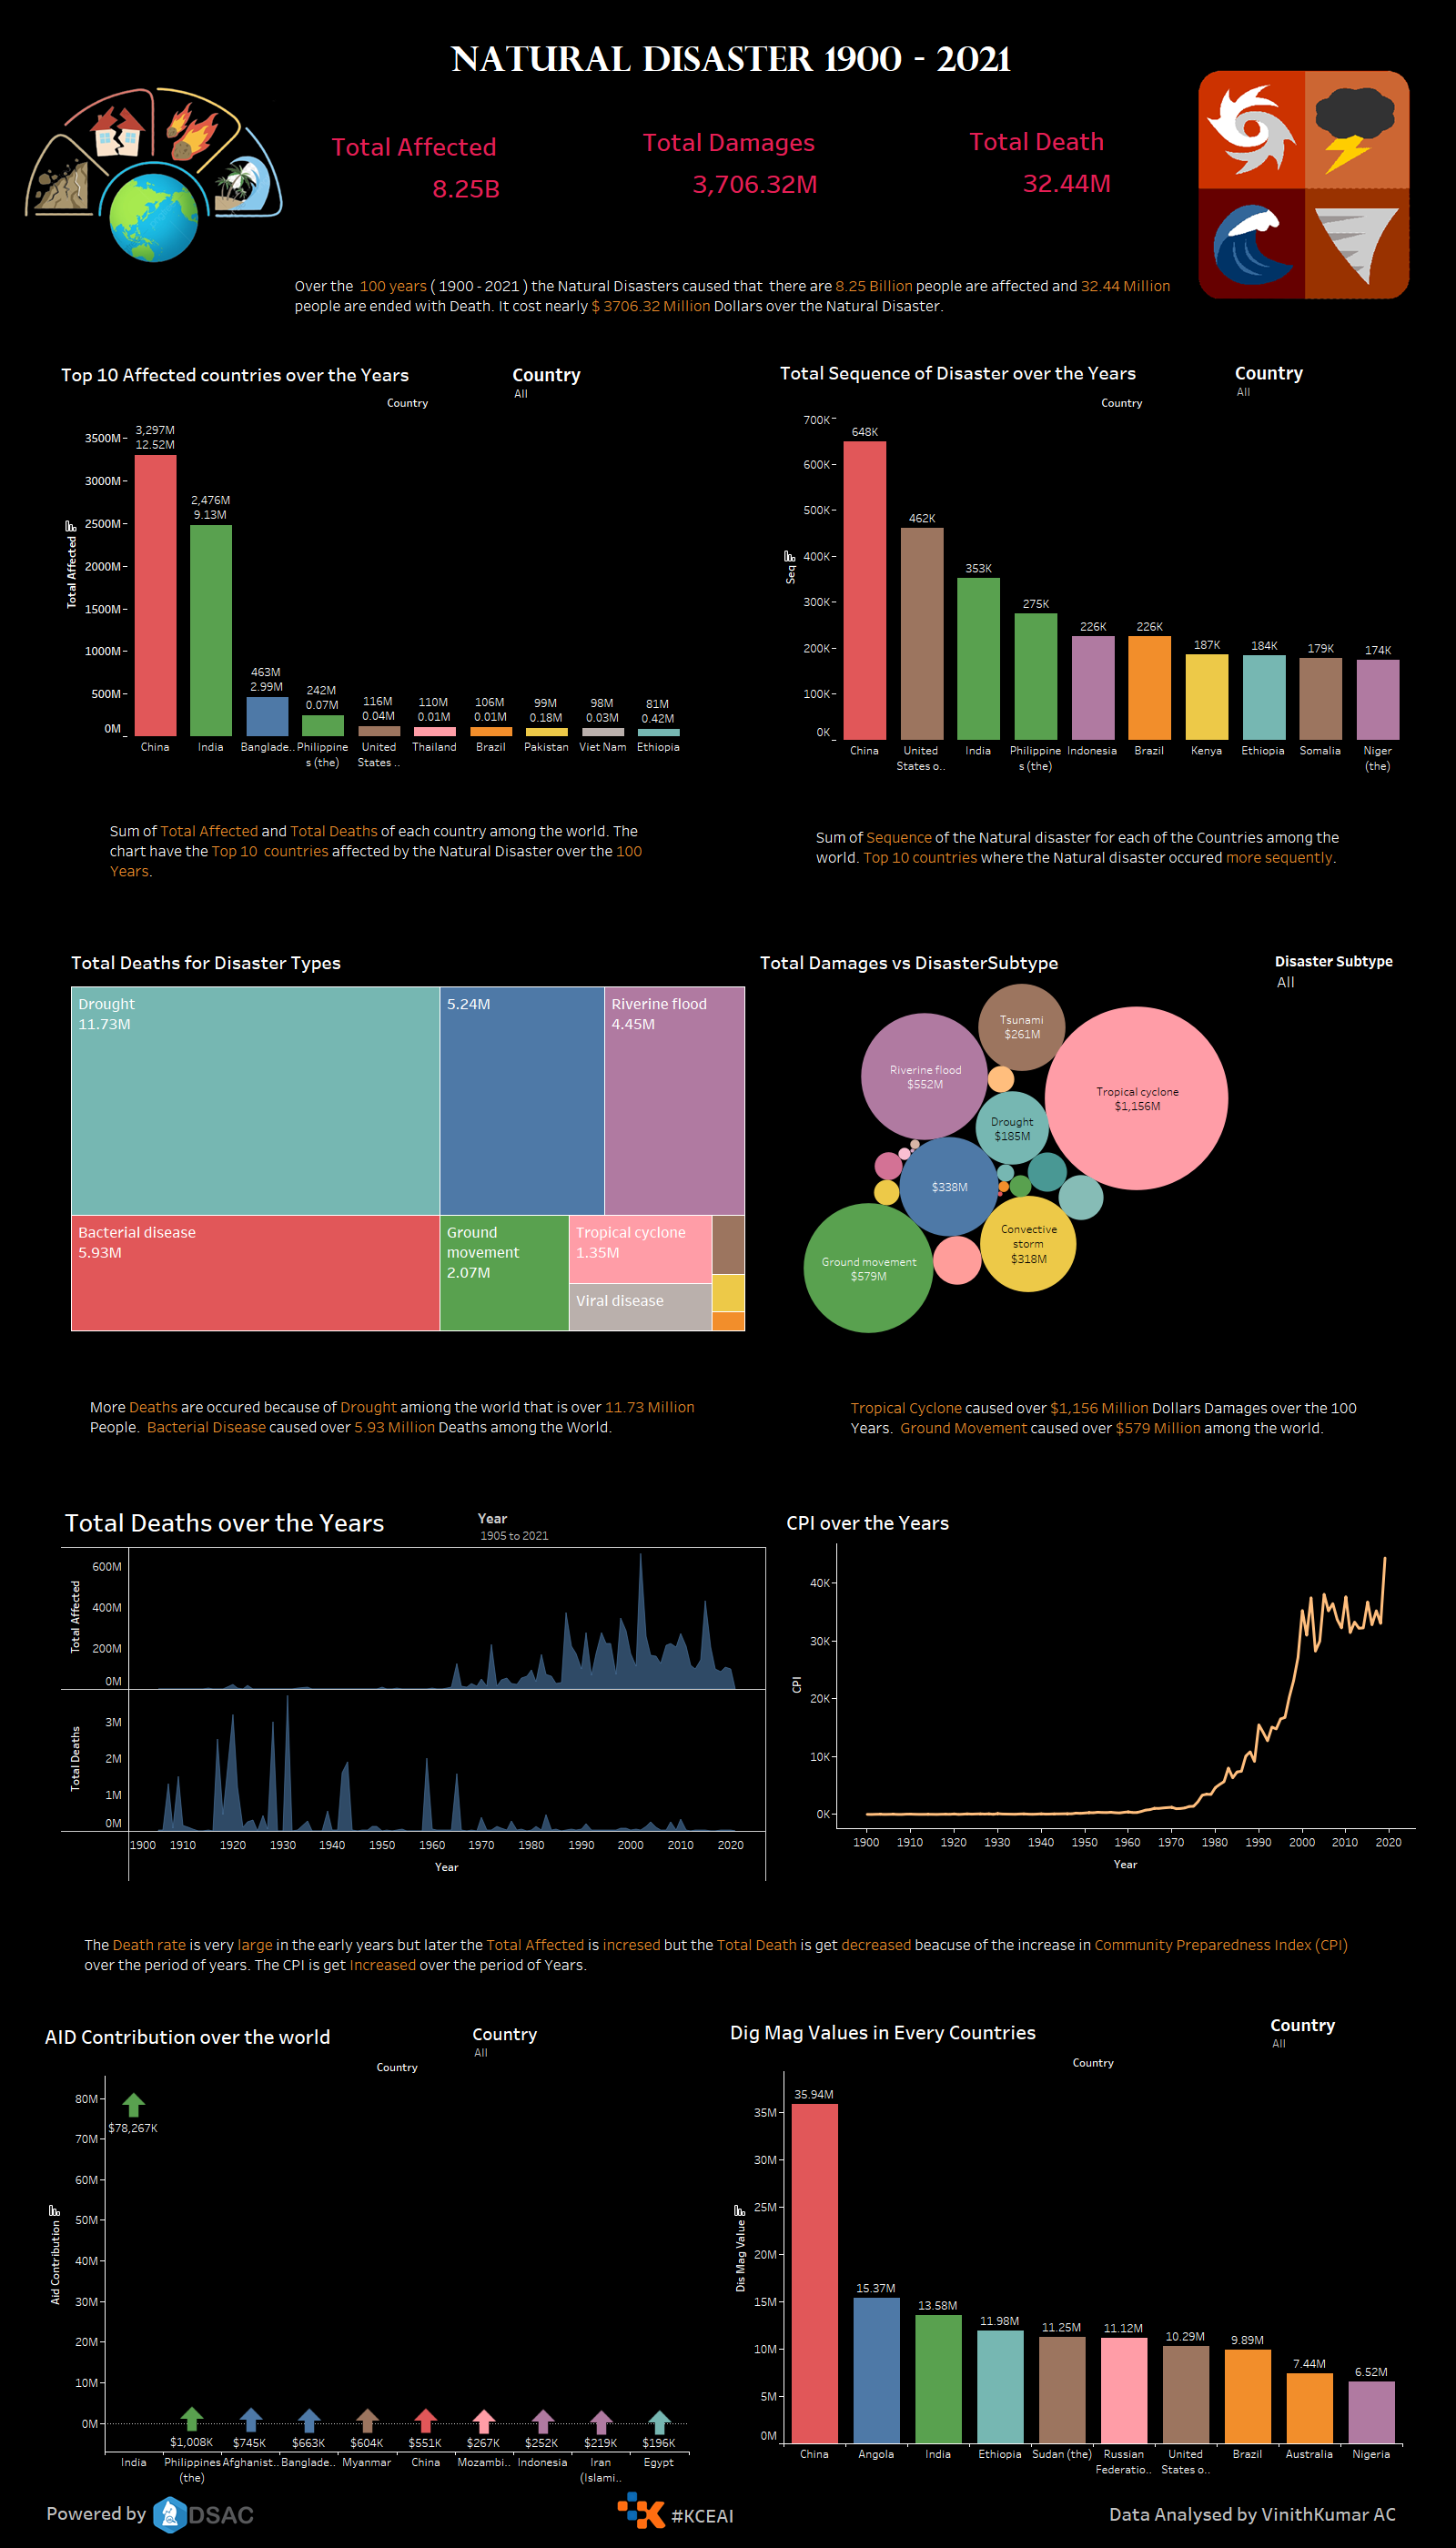

The dashboard page shown, as its layout file describes it:
{"tool":"tableau","page":{"name":"Dashboard 1","canvas":[1600,2800],"ordinal":0},"visuals":[{"type":"text","box":[356,30,893,69]},{"type":"image","param":"Image/pngtree-international-day-for-disaster-reduction-png-image_5524775-removeb","box":[6,62,400,326]},{"type":"worksheet","title":"Total Deaths","mark":"Automatic","box":[1061,130,165,107]},{"type":"worksheet","title":"Total Damages","mark":"Automatic","box":[702,131,201,108]},{"type":"worksheet","title":"Total Affected","mark":"Automatic","box":[360,136,194,107]},{"type":"text","box":[321,255,980,140]},{"type":"worksheet","title":"Total Seq","mark":"Automatic","rows":["Seq"],"cols":["Country"],"box":[853,389,693,464]},{"type":"worksheet","title":"Top 10 Affected","mark":"Automatic","rows":["Total Affected"],"cols":["Country"],"box":[63,391,692,458]},{"type":"filter","title":"Total Seq","param":"[federated.0ro07nl0x8tmt61a3li4x0d277j8].[attr:Country:nk]","box":[1357,394,184,76]},{"type":"filter","title":"Top 10 Affected","param":"[federated.0ro07nl0x8tmt61a3li4x0d277j8].[attr:Country:nk]","box":[563,396,183,64]},{"type":"text","box":[894,880,631,103]},{"type":"text","box":[118,882,617,107]},{"type":"worksheet","title":"Deaths for Disaster types","mark":"Automatic","box":[74,1037,748,430]},{"type":"worksheet","title":"Damages vs Disaster Subtype","mark":"Circle","box":[831,1037,571,428]},{"type":"filter","title":"Deaths for Disaster types","param":"[federated.0ro07nl0x8tmt61a3li4x0d277j8].[none:Disaster Subtype:nk]","box":[1401,1044,170,70]},{"type":"text","box":[96,1501,713,112]},{"type":"text","box":[932,1516,577,84]},{"type":"worksheet","title":"Total Deaths graph","mark":"Area","rows":["Total Affected","Total Deaths"],"cols":["Year"],"box":[67,1648,775,420]},{"type":"worksheet","title":"CPI over Years","mark":"Automatic","rows":["CPI"],"cols":["Year"],"box":[860,1652,695,412]},{"type":"filter","title":"Total Deaths graph","param":"[federated.0ro07nl0x8tmt61a3li4x0d277j8].[none:Year:qk]","box":[525,1657,321,85]},{"type":"text","box":[90,2078,1409,140]},{"type":"worksheet","title":"Dig Mag Value","mark":"Bar","rows":["Dis Mag Value"],"cols":["Country"],"box":[798,2212,743,513]},{"type":"worksheet","title":"Aid Contribution","mark":"Shape","rows":["Aid Contribution"],"cols":["Country"],"box":[45,2217,712,517]},{"type":"filter","title":"Aid Contribution","param":"[federated.0ro07nl0x8tmt61a3li4x0d277j8].[none:Country:nk]","box":[519,2220,171,61]},{"type":"image","param":"Image/kce_logo-removebg-preview.png","box":[676,2734,59,46]},{"type":"image","param":"Image/DSAC-logo.png","box":[168,2743,111,48]},{"type":"text","box":[48,2744,117,35]},{"type":"text","box":[1216,2745,328,35]},{"type":"text","box":[735,2749,100,30]}]}

Visuals, with their boxes in screenshot pixels (x1, y1, x2, y2), scaled from the page's 1600x2800 canvas onto the 1456x2548 screenshot:
text: locate(324, 27, 1137, 90)
image: locate(5, 56, 369, 353)
"Total Deaths" worksheet: locate(966, 118, 1116, 216)
"Total Damages" worksheet: locate(639, 119, 822, 217)
"Total Affected" worksheet: locate(328, 124, 504, 221)
text: locate(292, 232, 1184, 359)
"Total Seq" worksheet: locate(776, 354, 1407, 776)
"Top 10 Affected" worksheet: locate(57, 356, 687, 773)
"Total Seq" filter: locate(1235, 359, 1402, 428)
"Top 10 Affected" filter: locate(512, 360, 679, 419)
text: locate(814, 801, 1388, 895)
text: locate(107, 803, 669, 900)
"Deaths for Disaster types" worksheet: locate(67, 944, 748, 1335)
"Damages vs Disaster Subtype" worksheet (Circle marks): locate(756, 944, 1276, 1333)
"Deaths for Disaster types" filter: locate(1275, 950, 1430, 1014)
text: locate(87, 1366, 736, 1468)
text: locate(848, 1380, 1373, 1456)
"Total Deaths graph" worksheet (Area marks): locate(61, 1500, 766, 1882)
"CPI over Years" worksheet: locate(783, 1503, 1415, 1878)
"Total Deaths graph" filter: locate(478, 1508, 770, 1585)
text: locate(82, 1891, 1364, 2018)
"Dig Mag Value" worksheet (Bar marks): locate(726, 2013, 1402, 2480)
"Aid Contribution" worksheet (Shape marks): locate(41, 2017, 689, 2488)
"Aid Contribution" filter: locate(472, 2020, 628, 2076)
image: locate(615, 2488, 669, 2530)
image: locate(153, 2496, 254, 2540)
text: locate(44, 2497, 150, 2529)
text: locate(1107, 2498, 1405, 2530)
text: locate(669, 2502, 760, 2529)
